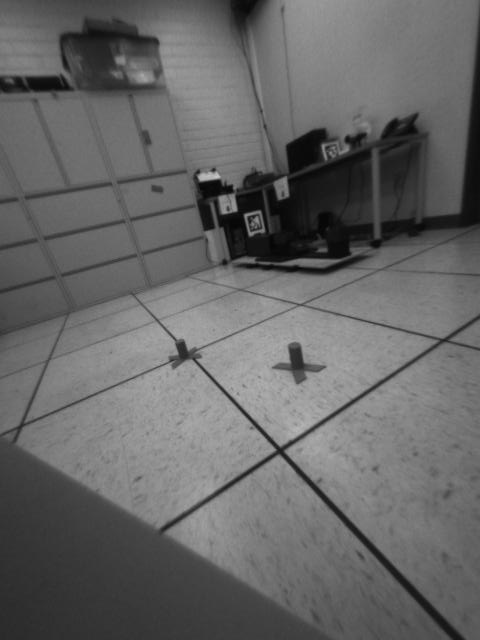X: (271, 341, 326, 384), (165, 336, 202, 369)
